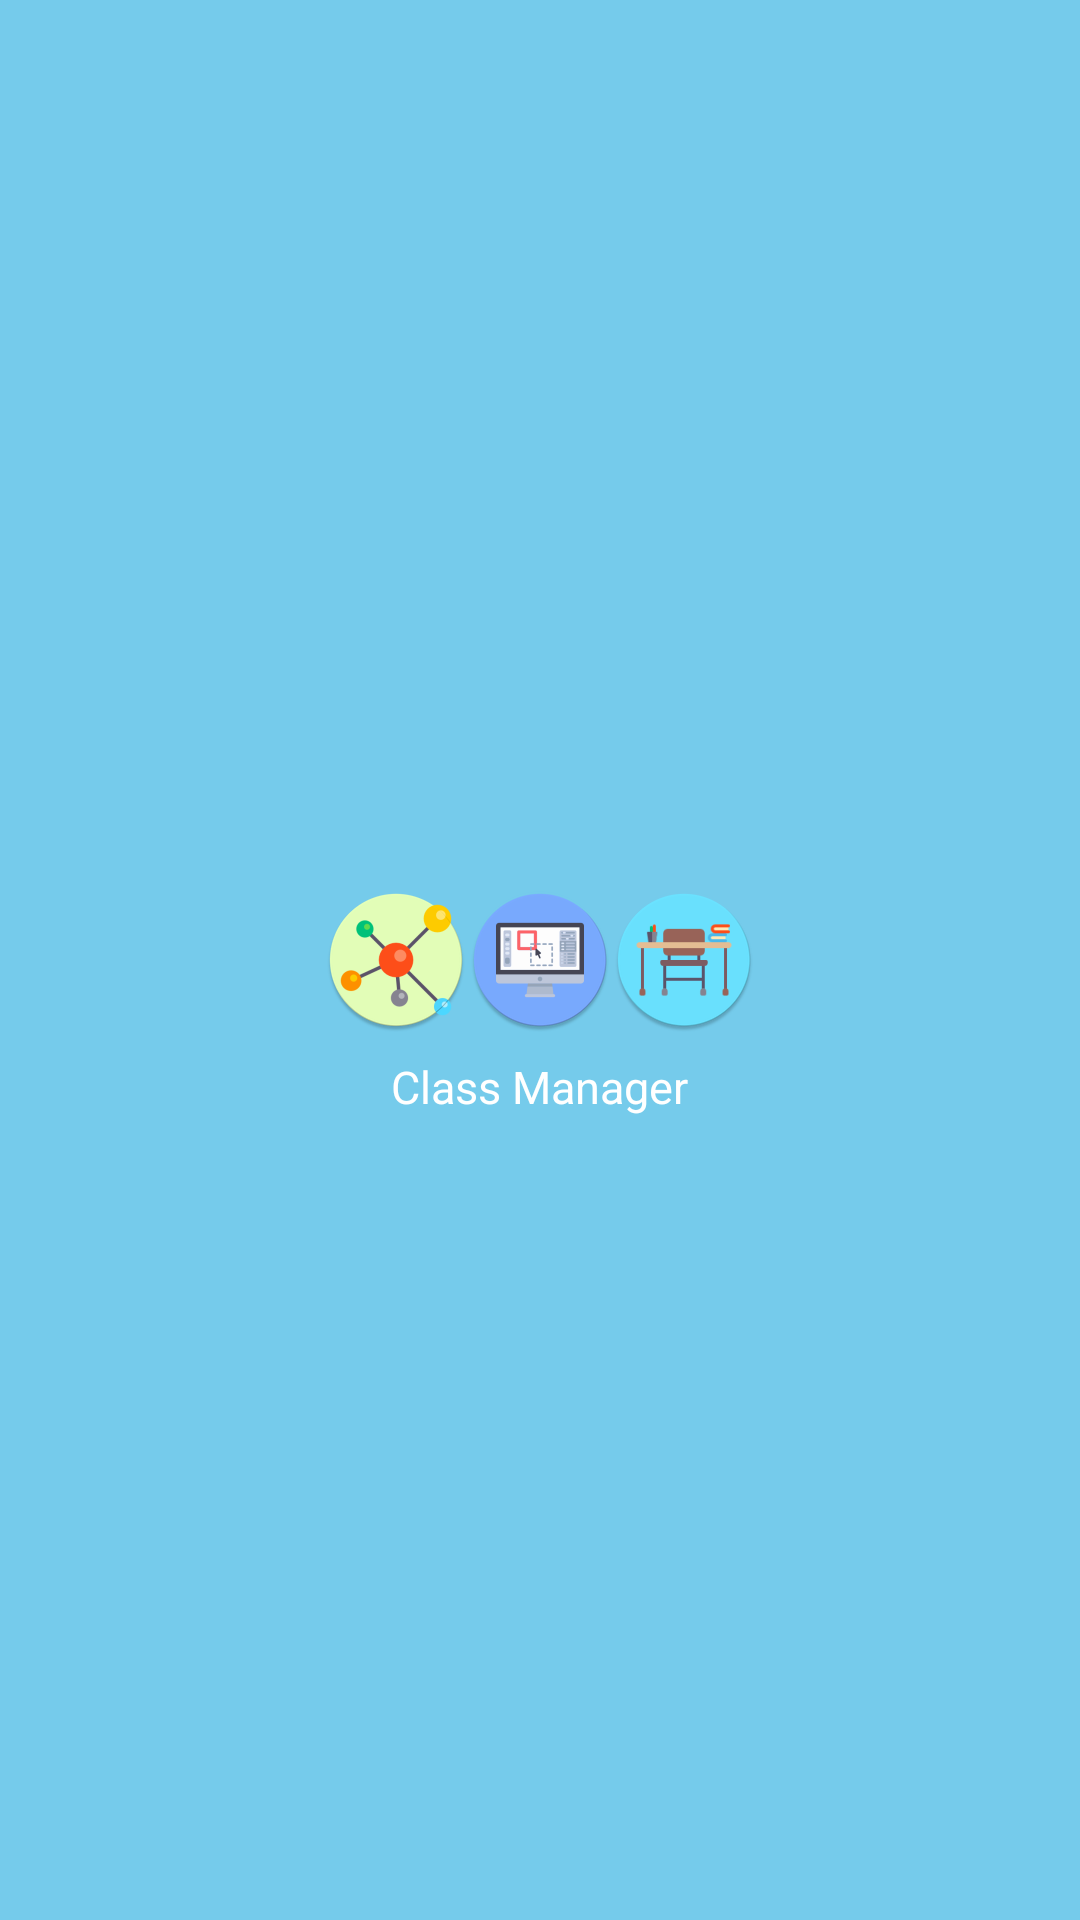

Screen size 1080×1920. Icon name, then its box in pixels as rect(x1, y1, x2, y2):
classroom: rect(617, 894, 751, 1031)
computer: rect(474, 894, 607, 1029)
laboratory: rect(330, 894, 463, 1029)
